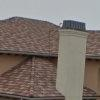Chimney: (55, 15, 89, 95)
